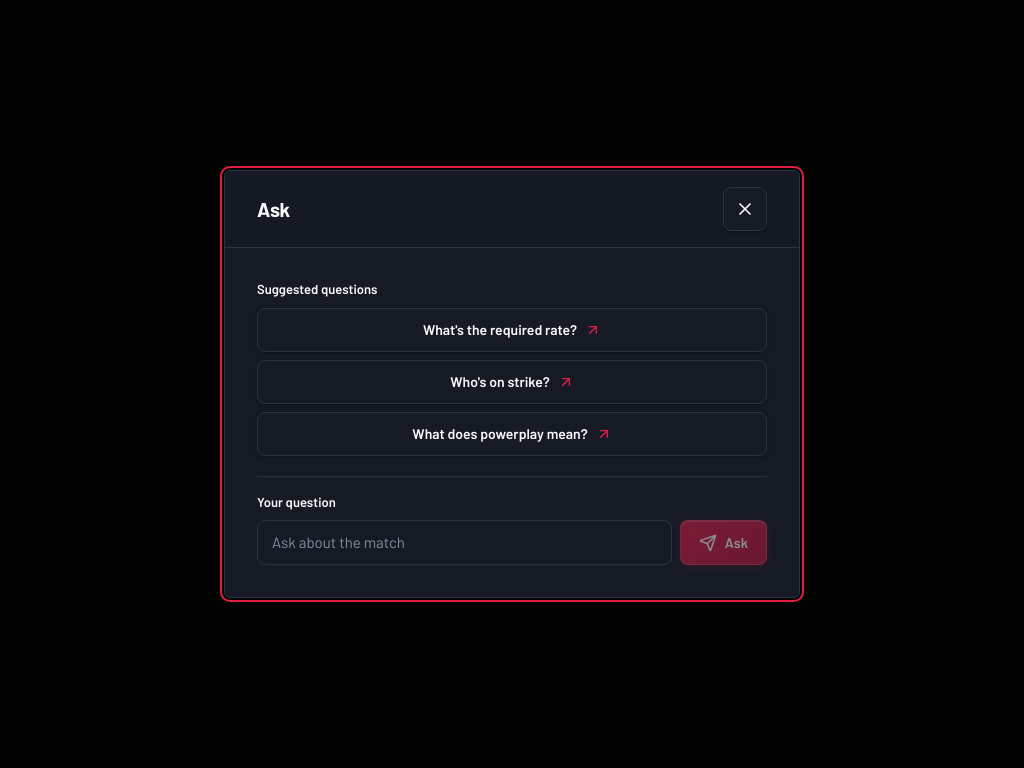
Test: Frontend submission feedback › handles non-success question responses
Click the button "Who's on strike?" at (512, 382), box [257,360,767,404]
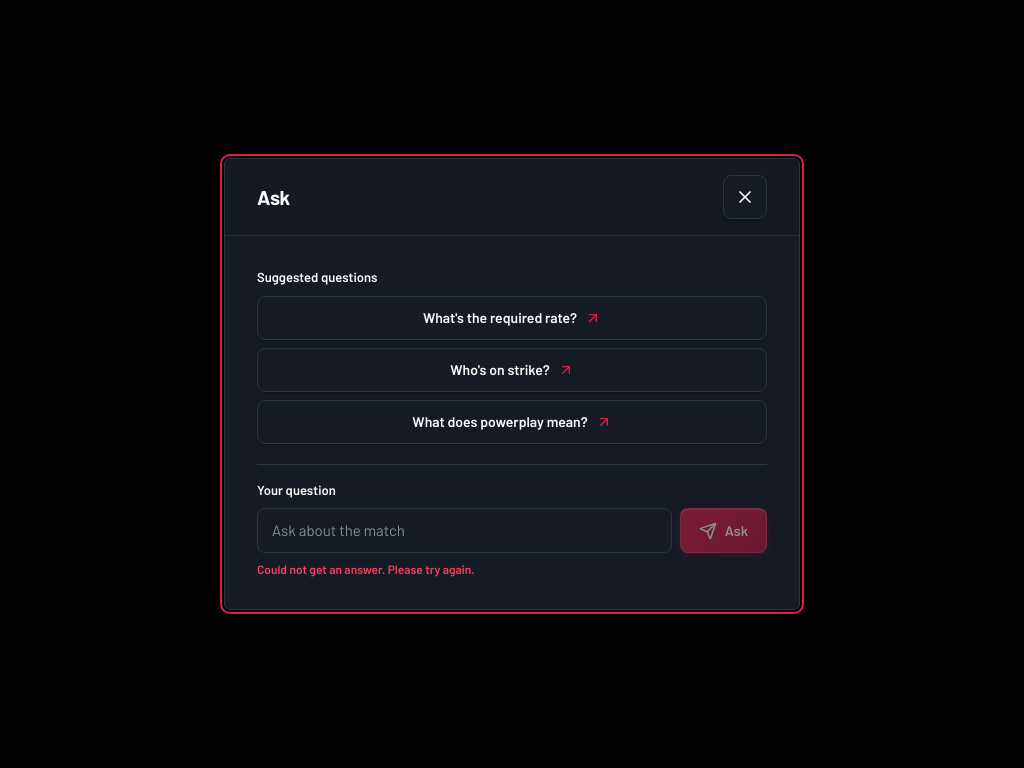
Expected: the message shows "try again", [257,562,474,576]
